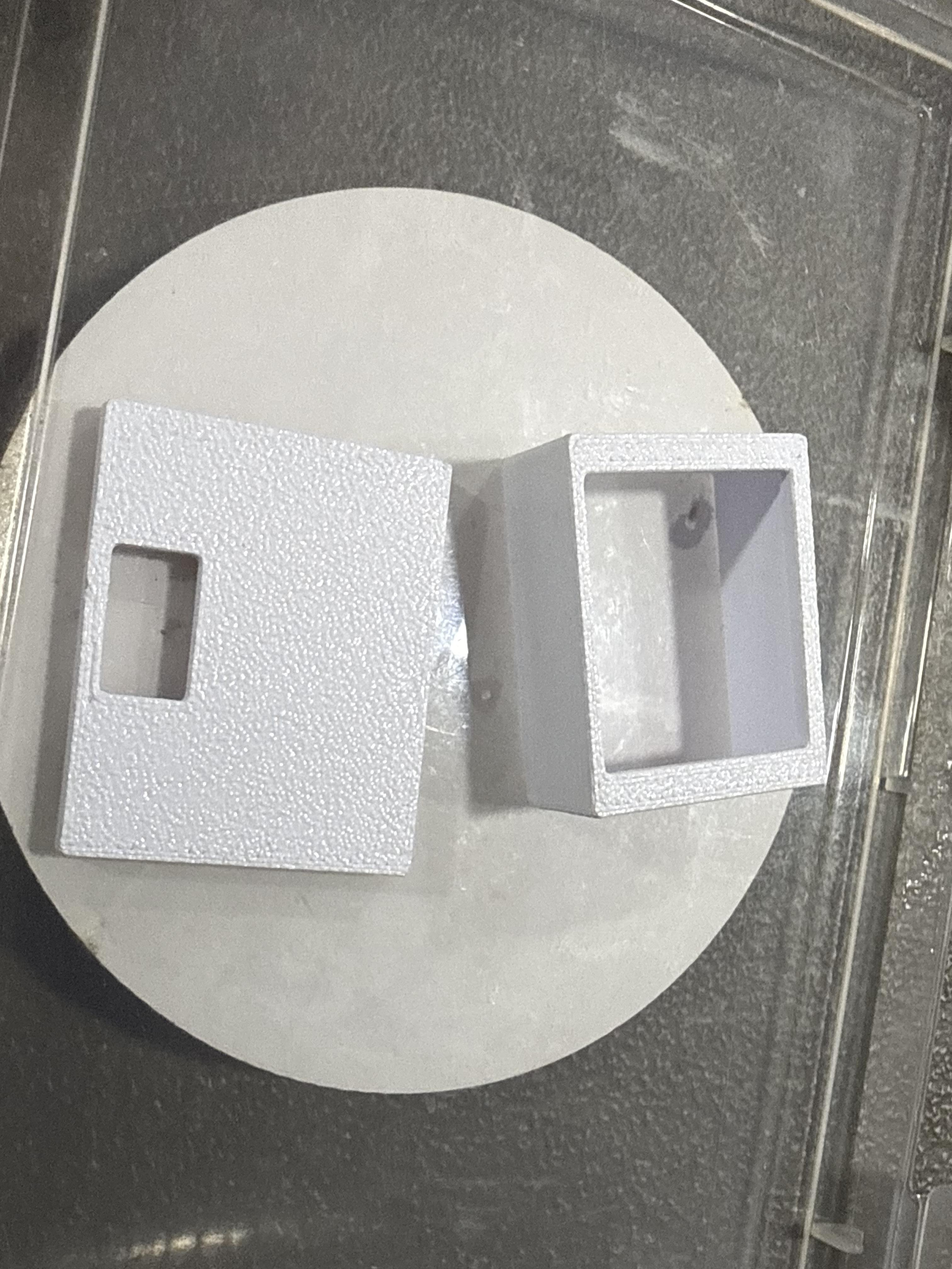enclosure: (47, 387, 441, 893), (452, 431, 829, 819)
